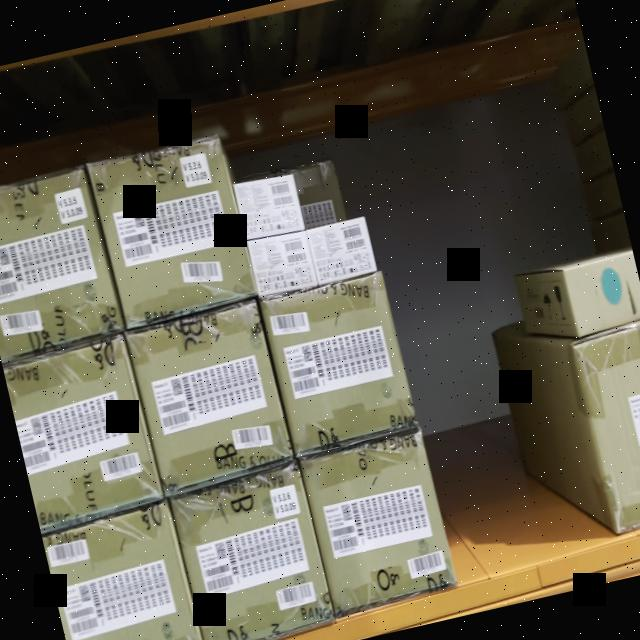box: (126, 299, 294, 491), (90, 136, 256, 328), (3, 342, 163, 527), (261, 273, 416, 454), (172, 471, 333, 640), (301, 433, 455, 608), (0, 168, 123, 356), (42, 510, 206, 640), (234, 173, 304, 240), (308, 218, 377, 282), (248, 232, 318, 295)
